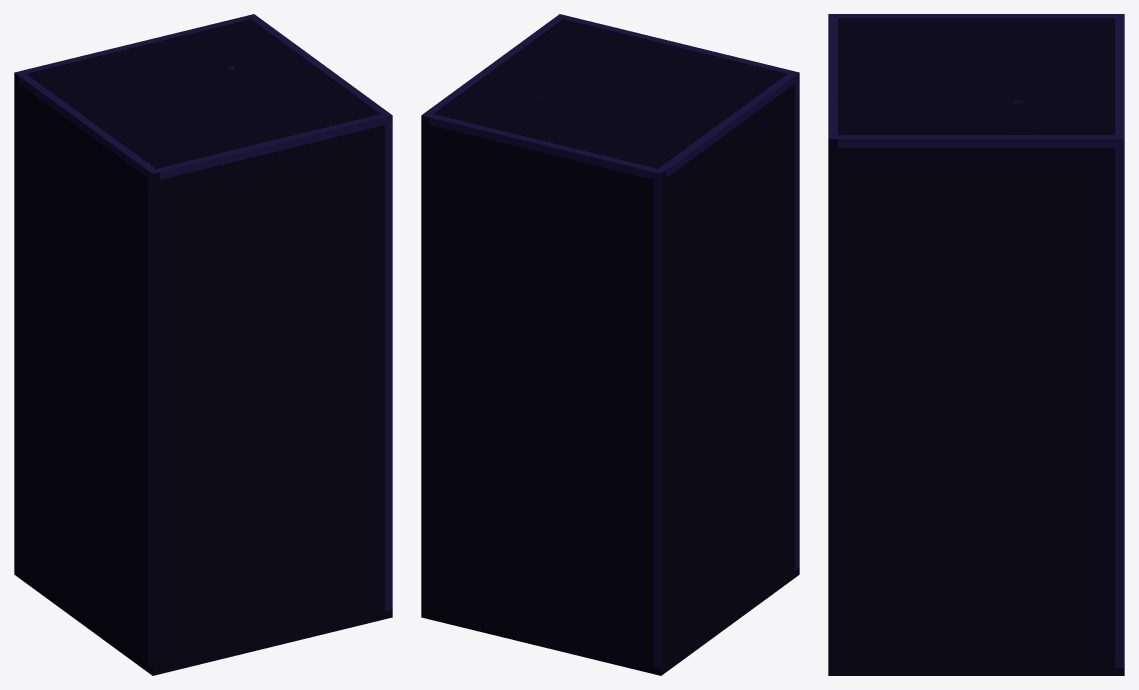
Rendered from monolithao.fezao.glb.
The picture shows the model from 3 angles, left to right: view 1: azimuth 30°, elevation 25°; view 2: azimuth 150°, elevation 25°; view 3: azimuth 270°, elevation 25°; orthographic projection. The views are drawn at different scales.
Parts seen in each view (by area): view 1: MONOLITHAO; view 2: MONOLITHAO; view 3: MONOLITHAO.
Boxes of the visible parts, <box> form: MONOLITHAO: <box>14,14,392,675</box>; MONOLITHAO: <box>421,14,799,675</box>; MONOLITHAO: <box>828,14,1124,675</box>.
Bounding box in the file's own units: 2 × 4 × 2.
Materials: 1 (1 with a texture image).
